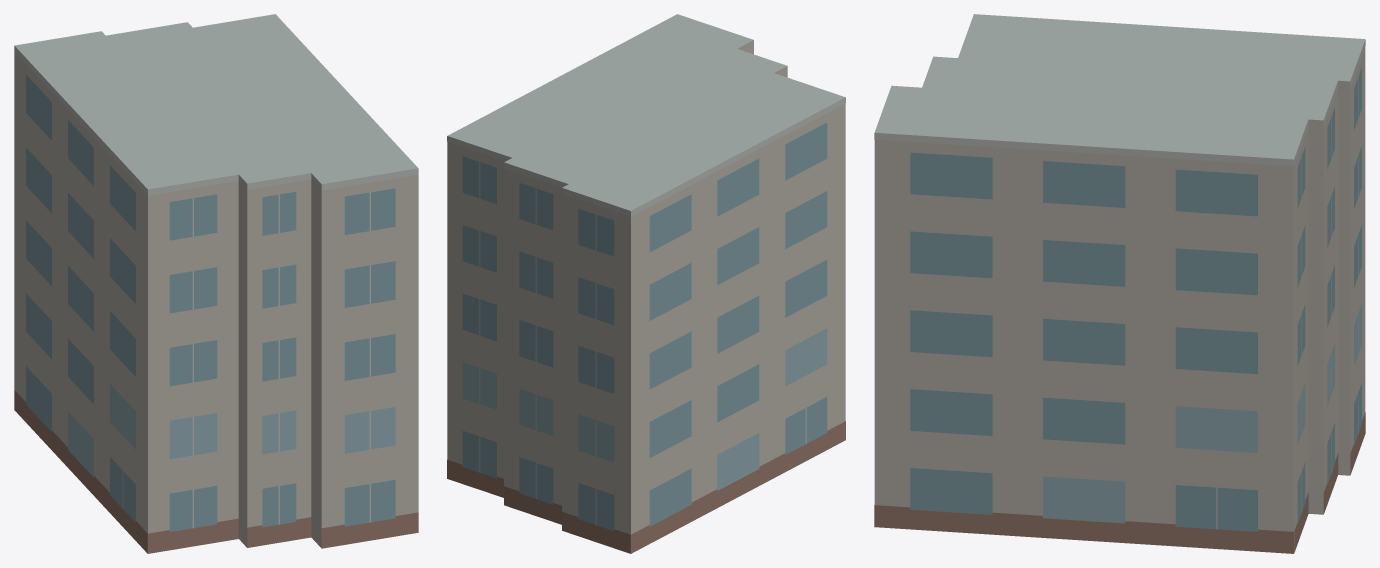
Rendered from survey-upis-32672554.glb.
3 views of the same model, side by side, from view 1: azimuth 30°, elevation 25°; view 2: azimuth 150°, elevation 25°; view 3: azimuth 270°, elevation 25° (orthographic). The views are drawn at different scales.
Parts seen in each view (by area): view 1: survey-upis-32672554.tmp; view 2: survey-upis-32672554.tmp; view 3: survey-upis-32672554.tmp.
Part boxes in pixels (x1=…): survey-upis-32672554.tmp: x1=14, y1=14, x2=418, y2=553; survey-upis-32672554.tmp: x1=447, y1=14, x2=845, y2=553; survey-upis-32672554.tmp: x1=874, y1=14, x2=1365, y2=553.
Bounding box in the file's own units: 11.21 × 14.15 × 15.98.
